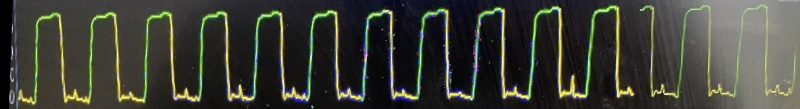hydrop_pressure: (7, 0, 669, 109), (664, 0, 794, 109)
